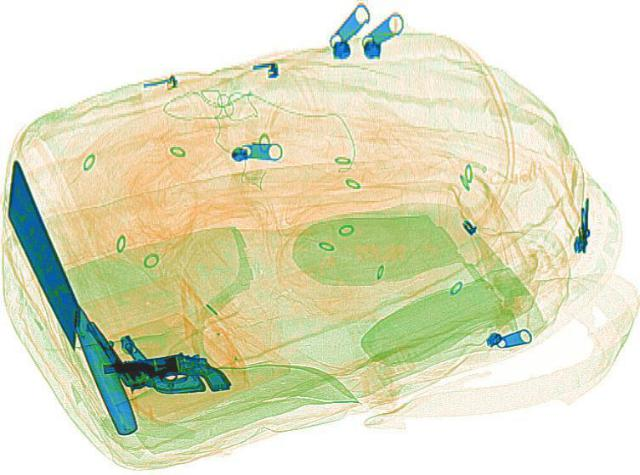Gun: (80, 302, 208, 409), (98, 347, 230, 401)
Knife: (0, 190, 147, 436)
